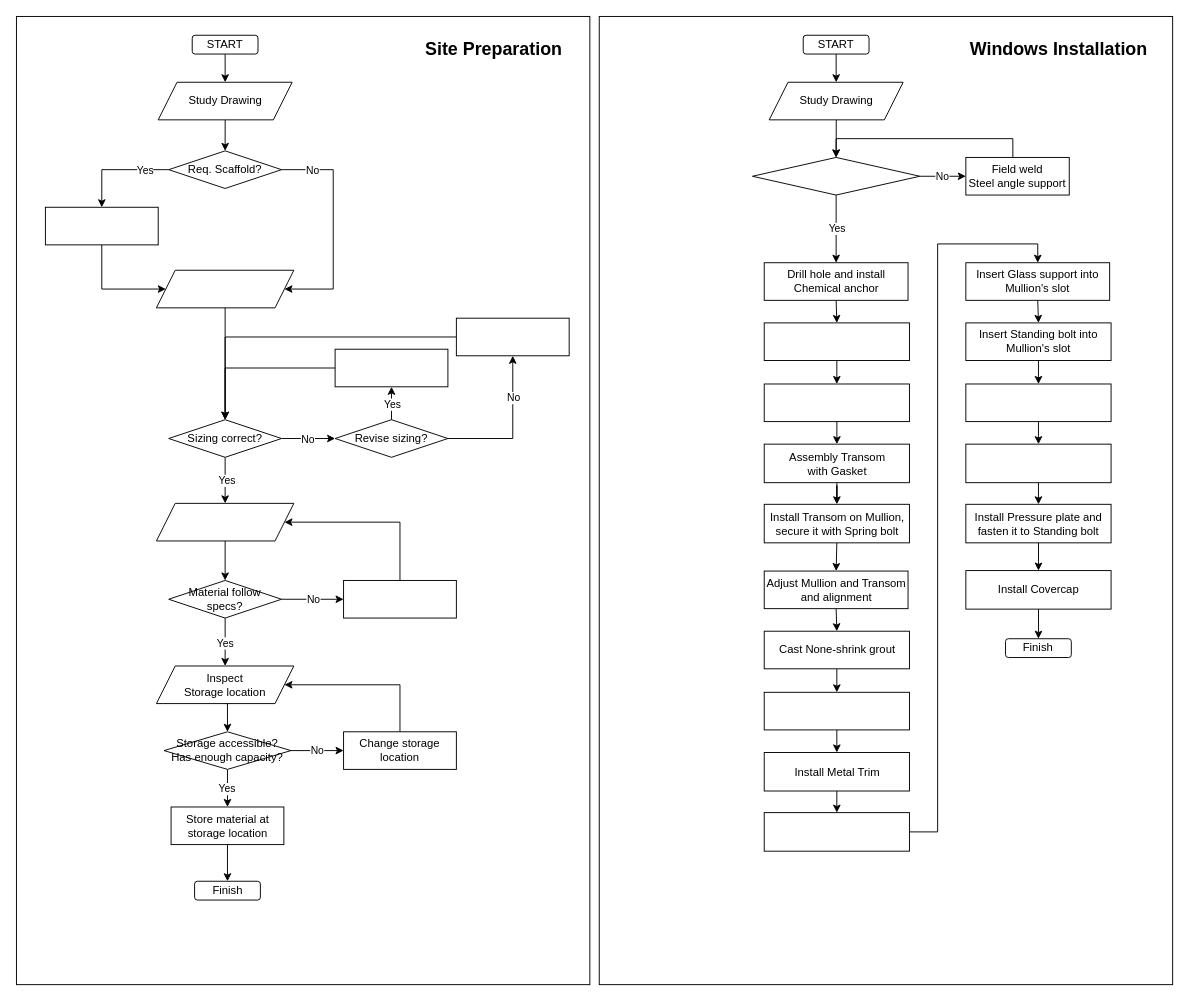
The diagram is 1189 pixels wide and 1001 high, and some of its shapes have lost their labels. Here are the shapes that lost their labels. From the top down, the centre of each, then its label:
At pixel 836 176: "Is Addition top support require?".
At pixel 101 225: "Erect Scaffold".
At pixel 224 288: "Measure Opening size".
At pixel 512 336: "Modify opening".
At pixel 836 341: "Assembly Mullion with Steel support".
At pixel 391 367: "Cut Frame to size".
At pixel 836 402: "Install Mullion to bottom support on Chemical Anchor".
At pixel 1038 402: "Place Glass Panel on support".
At pixel 1038 463: "Install Cover C section".
At pixel 224 521: "Inspect material".
At pixel 399 599: "Reject material".
At pixel 836 710: "Install Backing rod and seal with Silicone".
At pixel 836 831: "Install Membrane sheet with screw".
